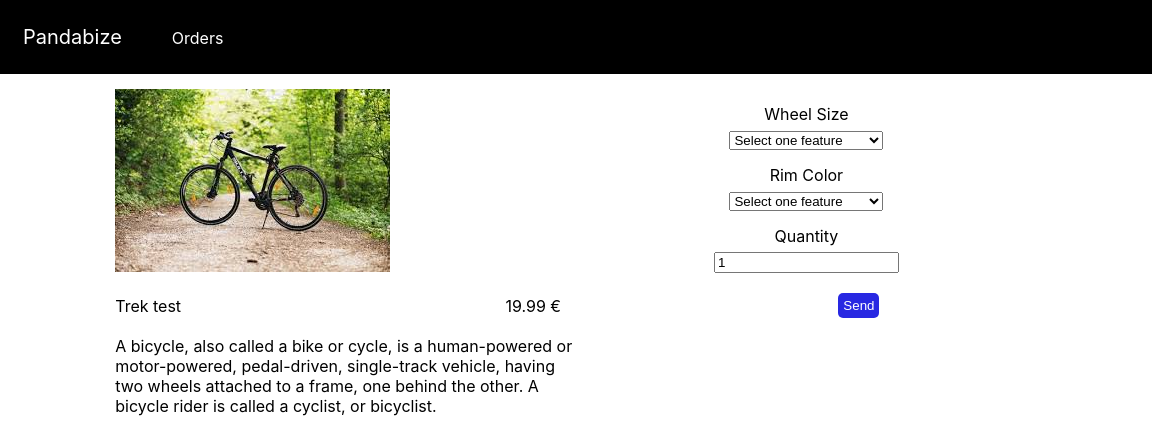
Test: Brand Detail screen › should show the product info and place and order
Check: the text with class "divider" reads "Trek test", box [115, 296, 181, 316]
Note: show popup when no options selected
Click the submit button: [859, 306] box [838, 293, 879, 318]
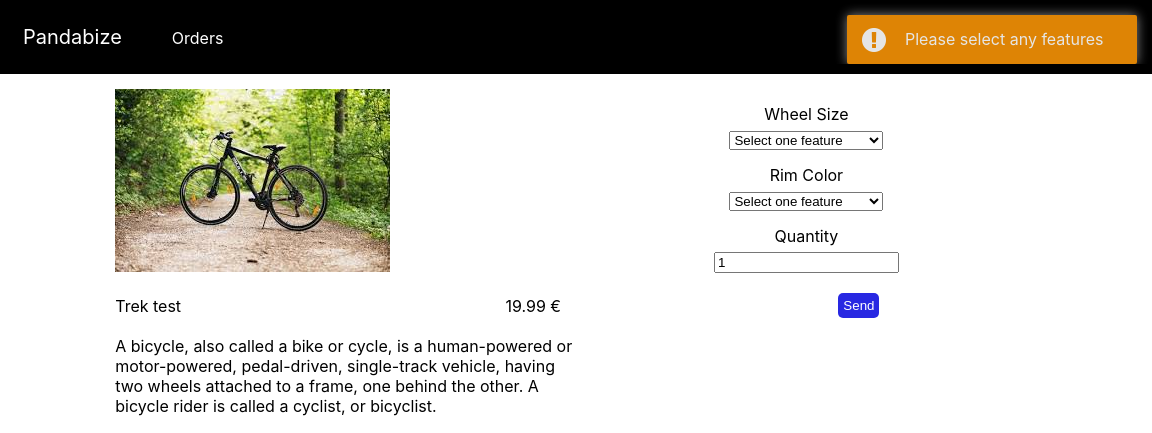
Check: the element with class "notification" is shown, box [847, 15, 1137, 64]
Check: the text with class "notification" reads "Please select any features", box [905, 29, 1104, 49]
Note: show popup when you place an order
Select "19" in the dropdown below "Wheel Size": [806, 141] box [729, 131, 883, 150]
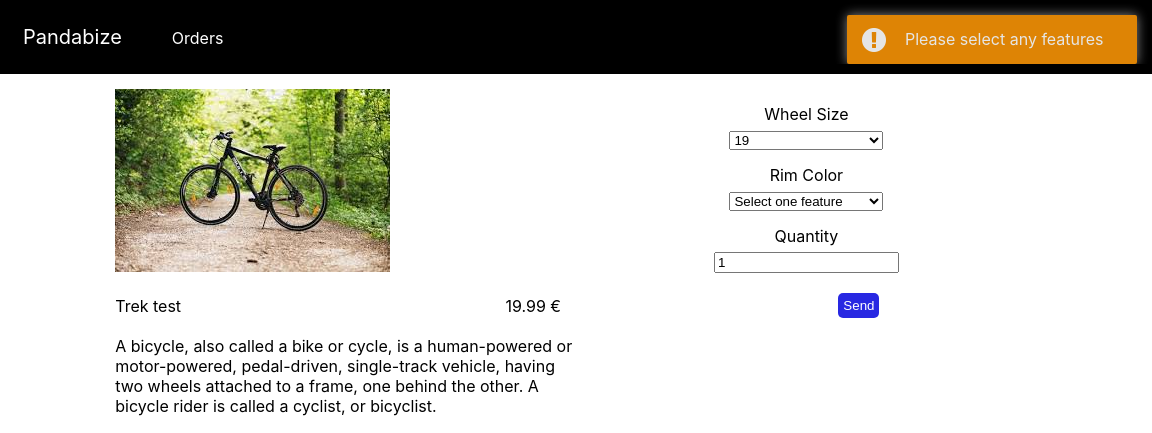
Select "blue" in the dropdown below "Rim Color": [806, 202] box [729, 192, 883, 211]
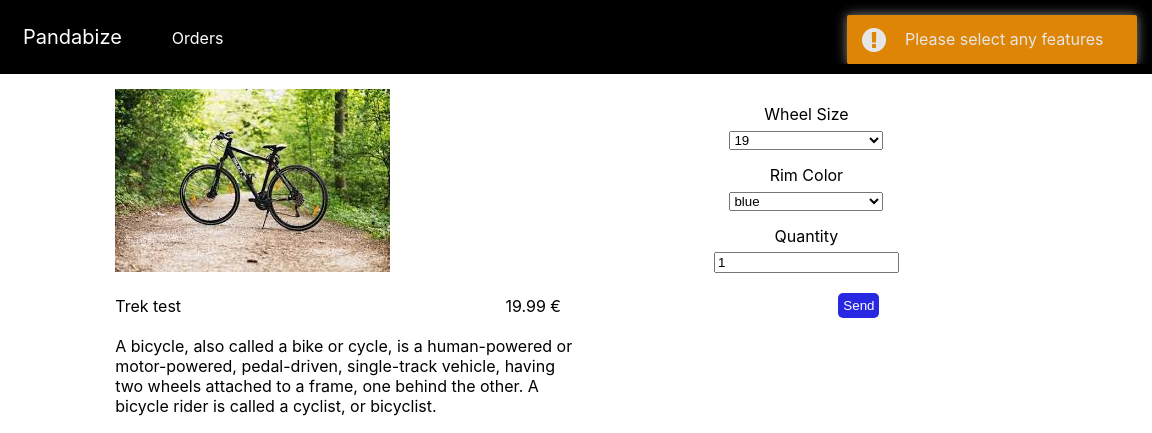
Click the submit button: [859, 306] box [838, 293, 879, 318]
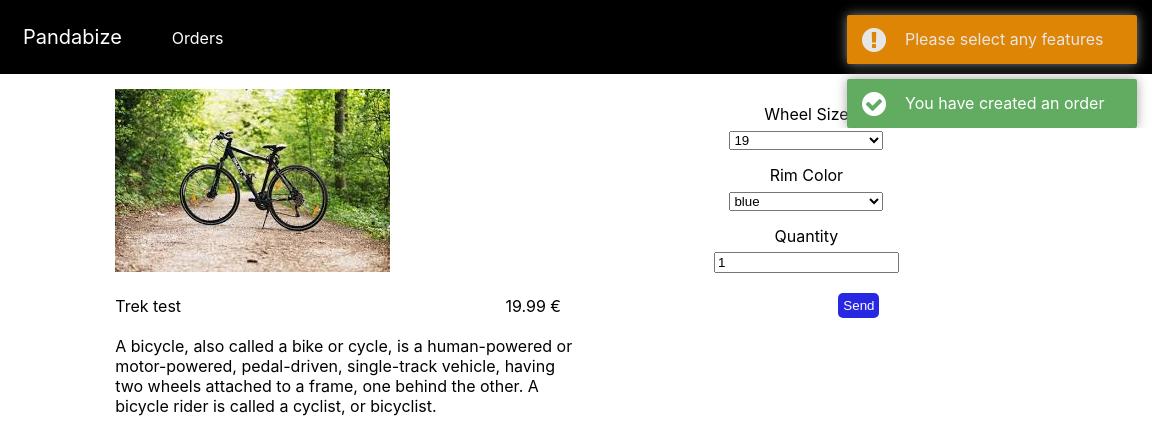
Check: the element with class "notification" showing "Please select any features" is shown, box [847, 15, 1137, 64]
Check: the text with class "notification" reads "You have created an order", box [905, 93, 1104, 113]
